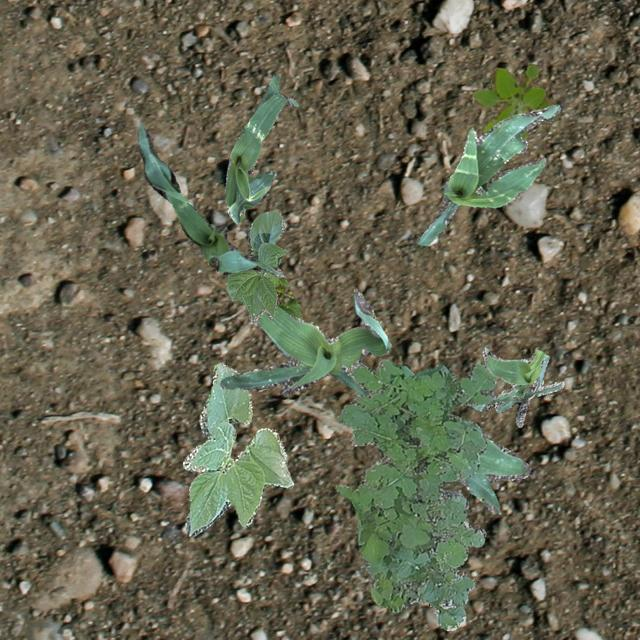crop: (136, 126, 284, 276), (416, 103, 558, 244), (400, 364, 530, 512), (182, 362, 292, 534), (220, 288, 390, 394), (224, 73, 298, 224), (471, 346, 564, 426), (225, 208, 288, 320), (264, 272, 300, 318)
weed: (334, 358, 496, 630), (472, 64, 558, 138)
